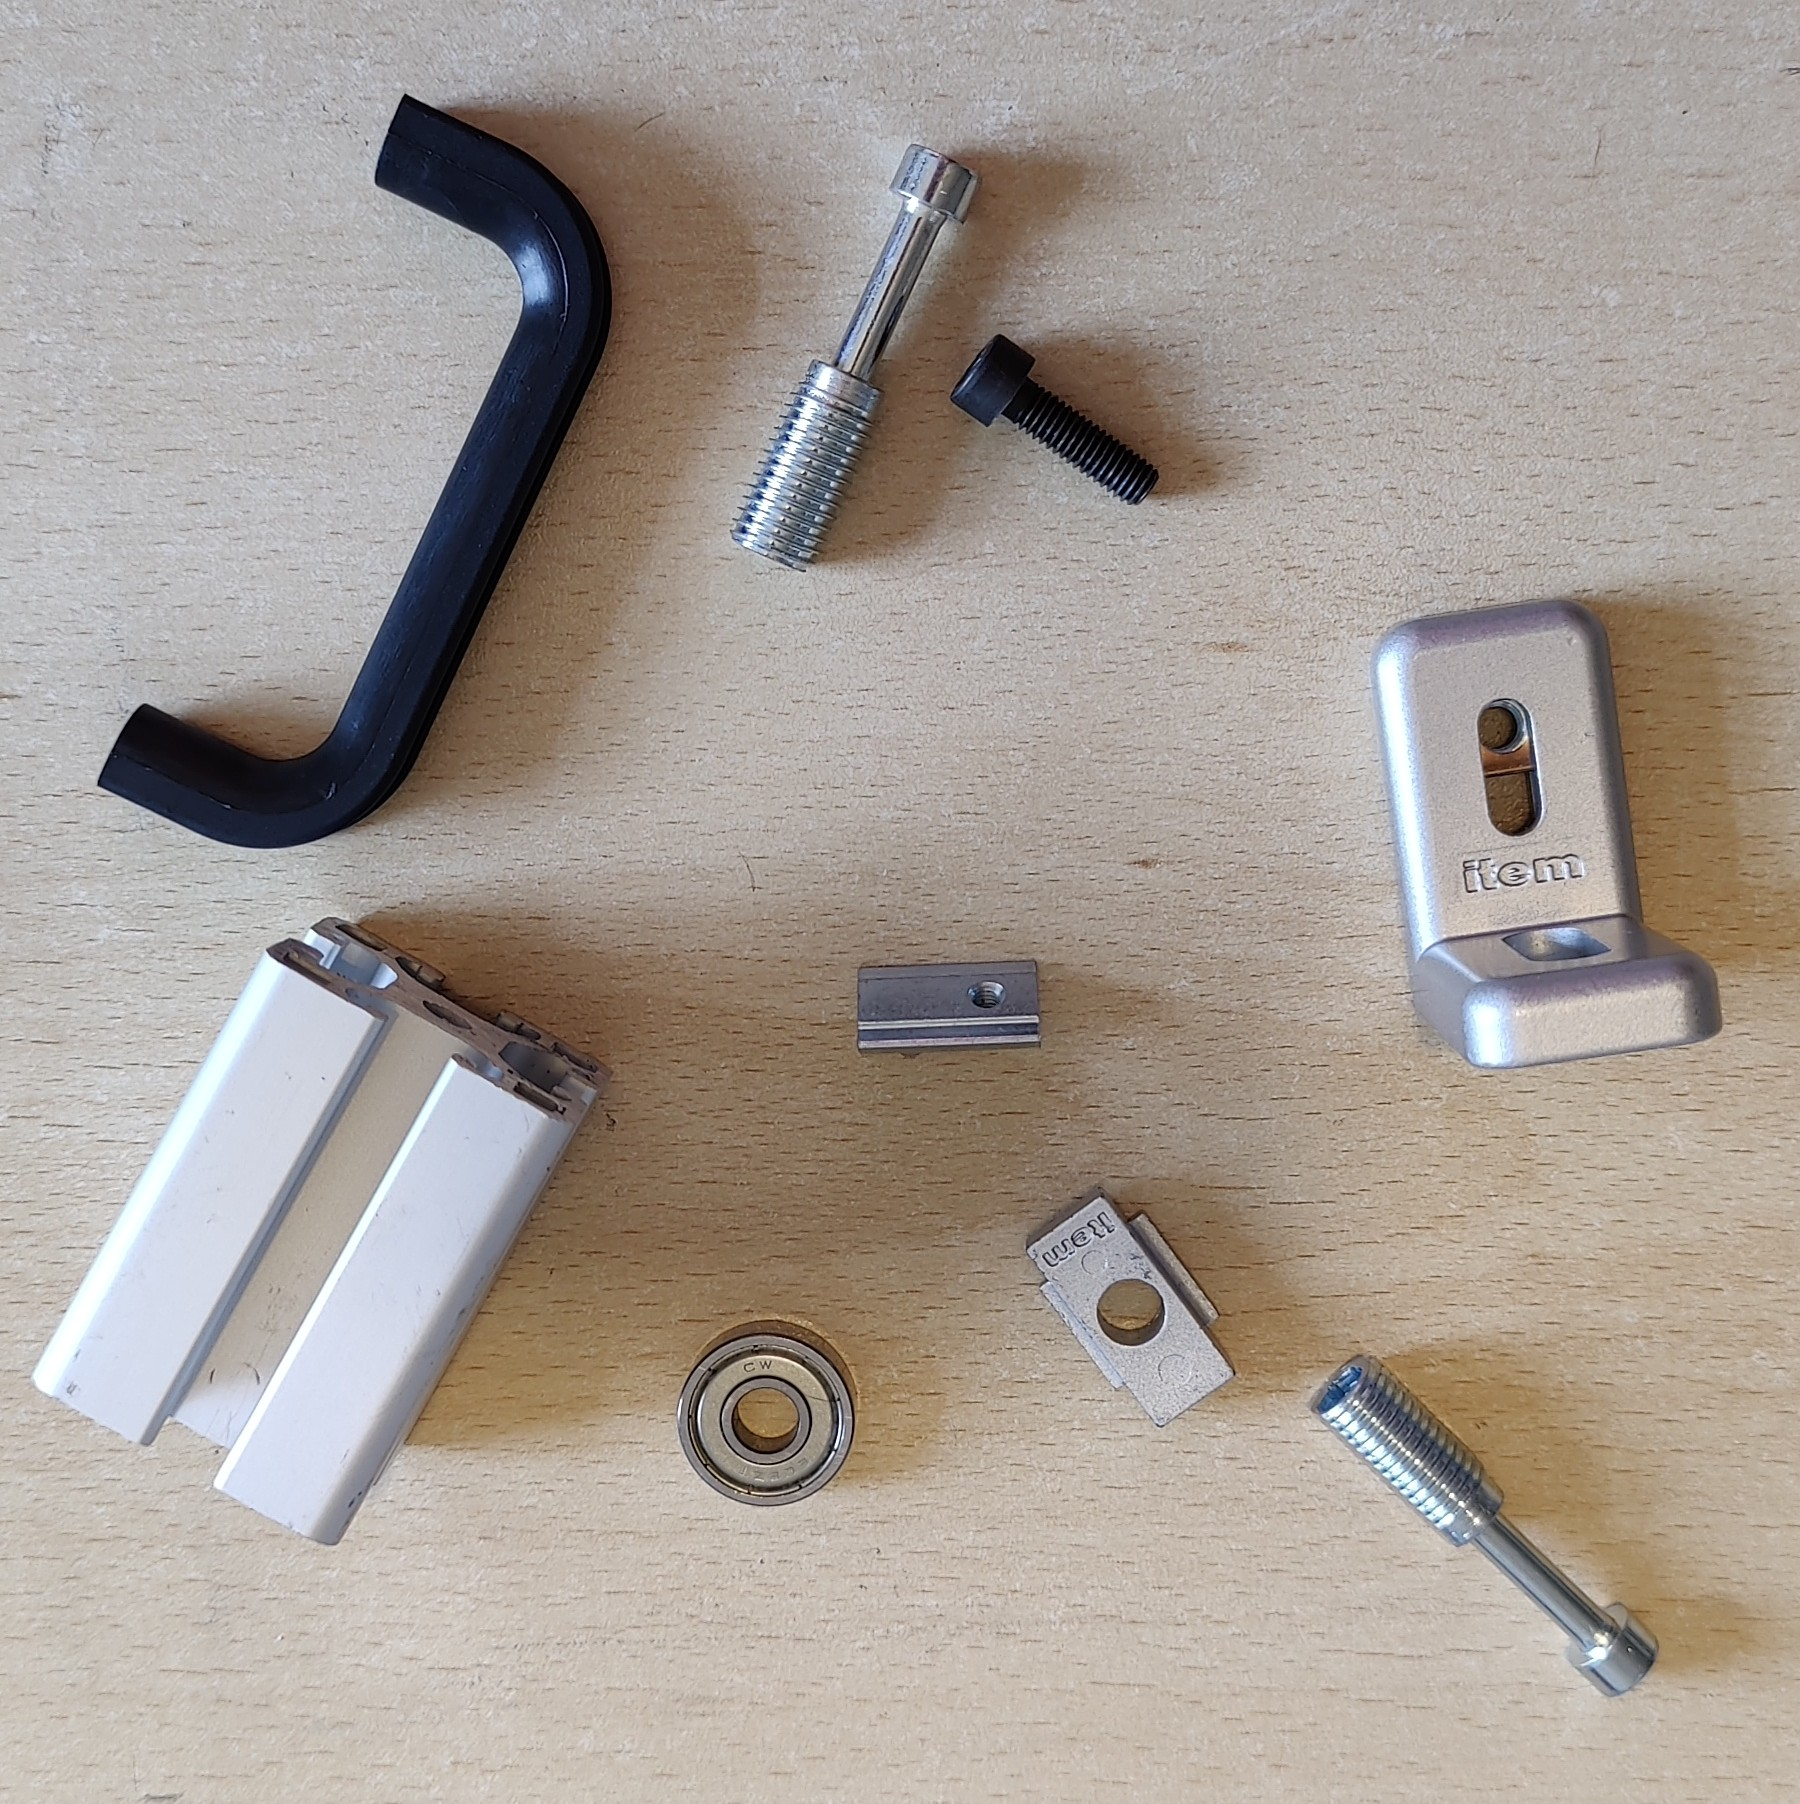Aluminium Extension: (30, 914, 612, 1548)
Ball Bearing: (676, 1318, 860, 1507)
Multiwinkel: (1368, 594, 1727, 1073)
Pull Handle: (92, 86, 616, 851)
Shoulder Socket Head Cap Screw: (1305, 1347, 1662, 1702), (727, 142, 982, 574)
Socket Head Cap Screw: (945, 330, 1160, 508)
T Nut Square: (1022, 1182, 1240, 1430)
T Spring Nut: (852, 955, 1047, 1062)
